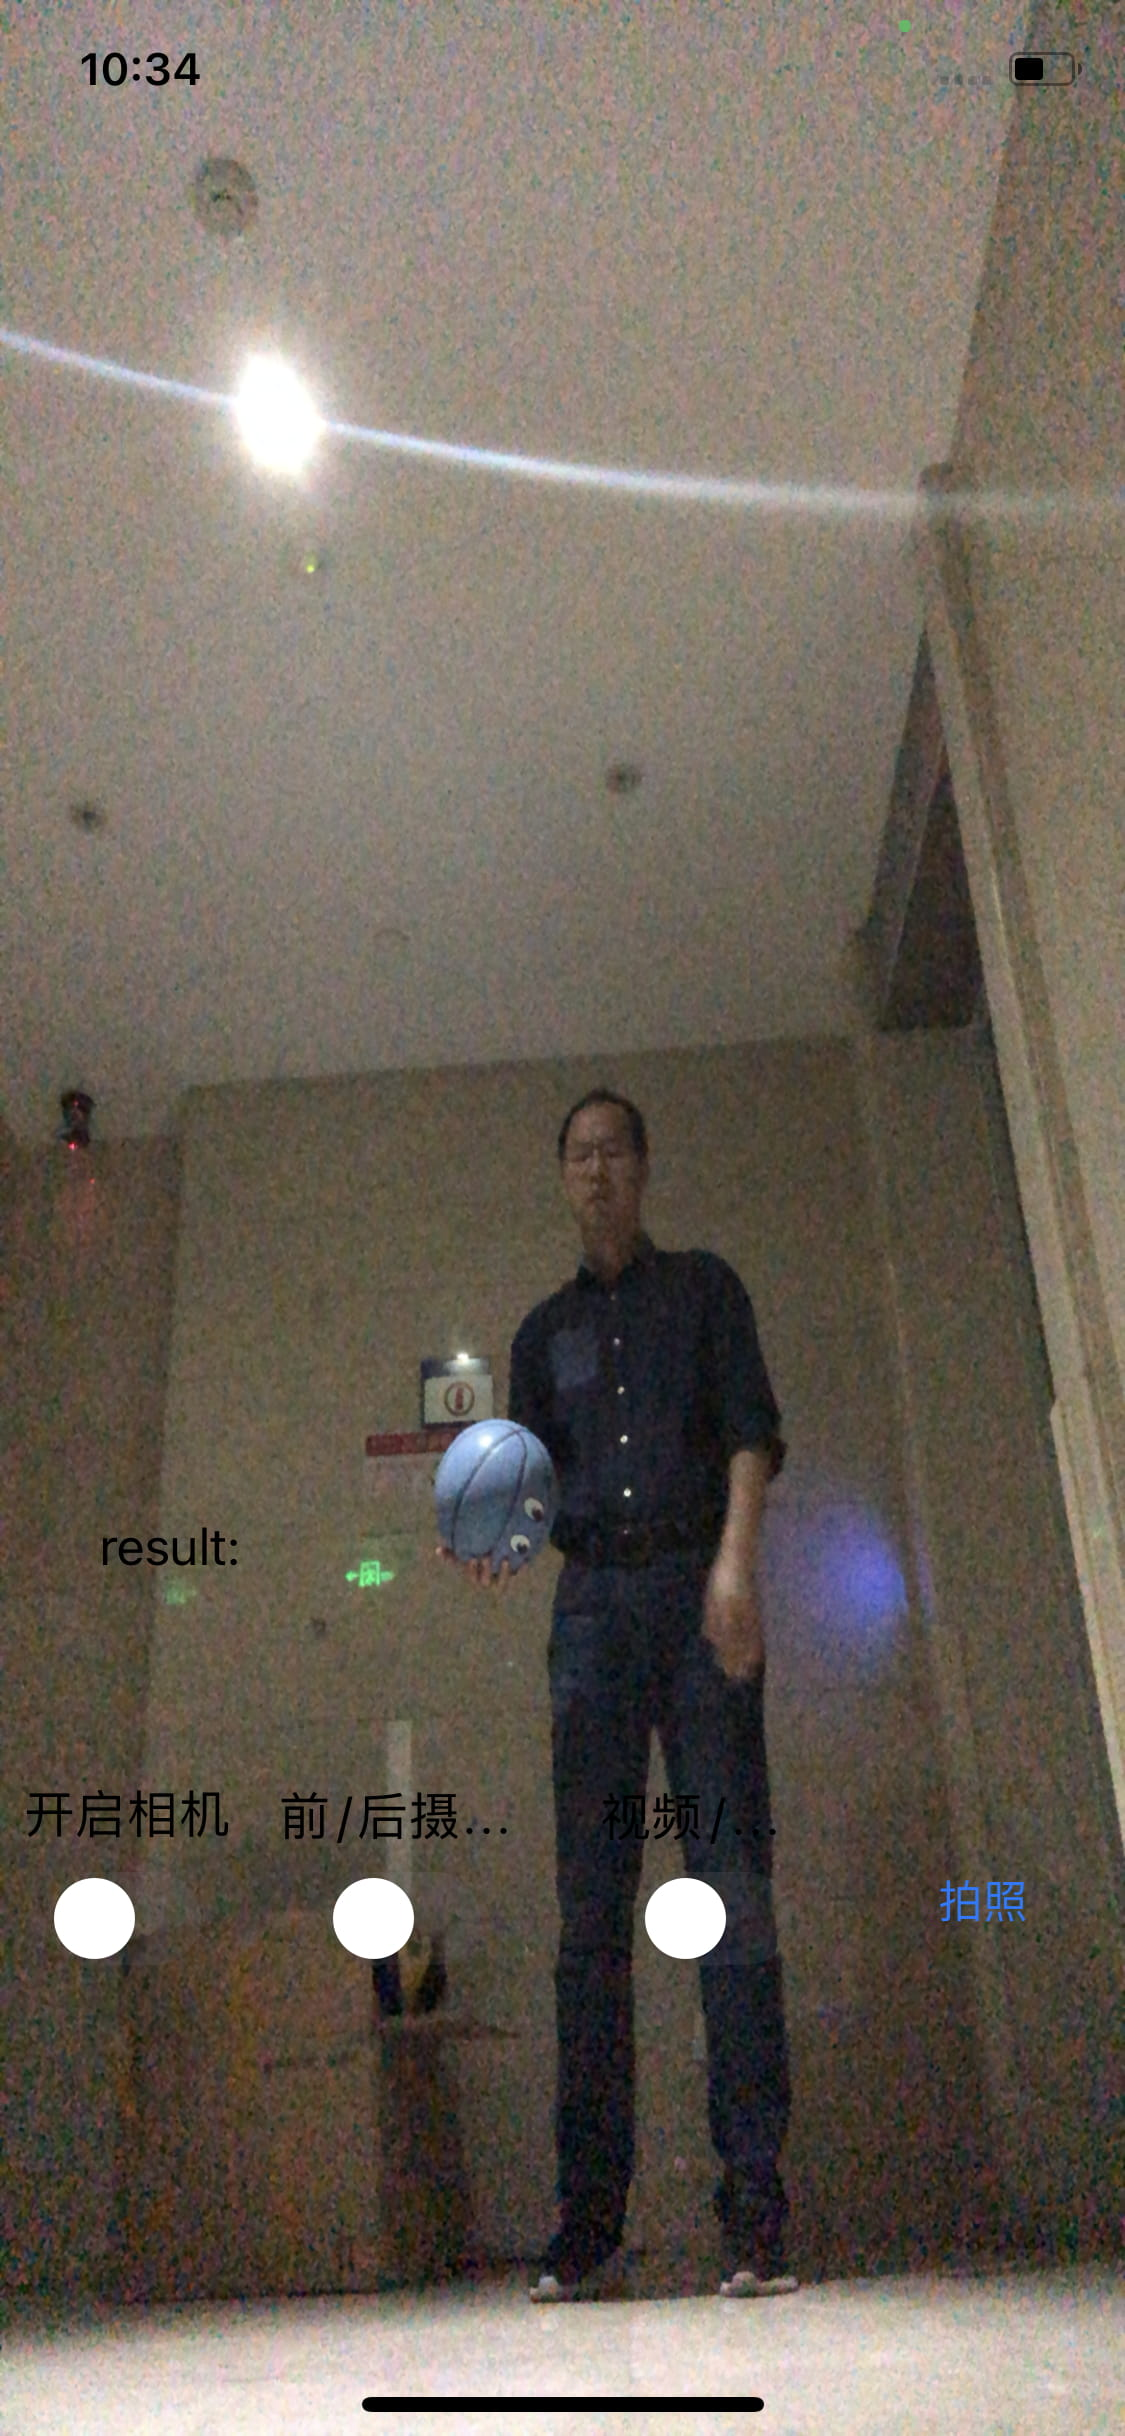ball: (434, 1420, 564, 1578)
